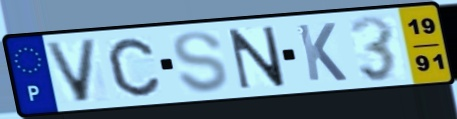3: (348, 13, 400, 84)
C: (105, 36, 163, 99)
K: (294, 21, 350, 84)
N: (226, 23, 289, 91)
S: (171, 28, 232, 95)
V: (41, 37, 100, 105)
